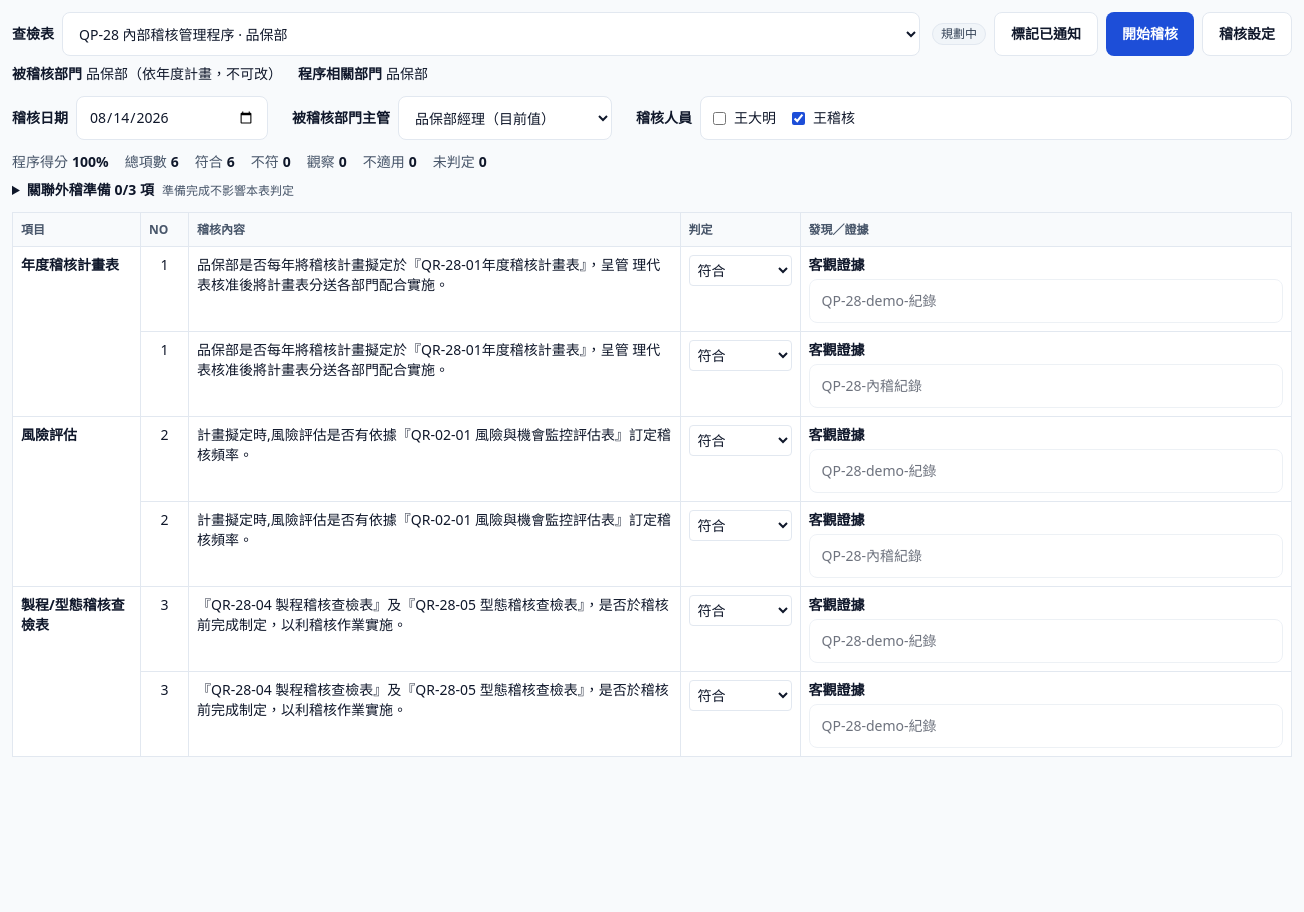
Test: ProcedureAuditPanel › summarises multiple start errors in one alert line with expandable details
Click the button "開始稽核": point(1150, 34) [1106,12,1194,56]
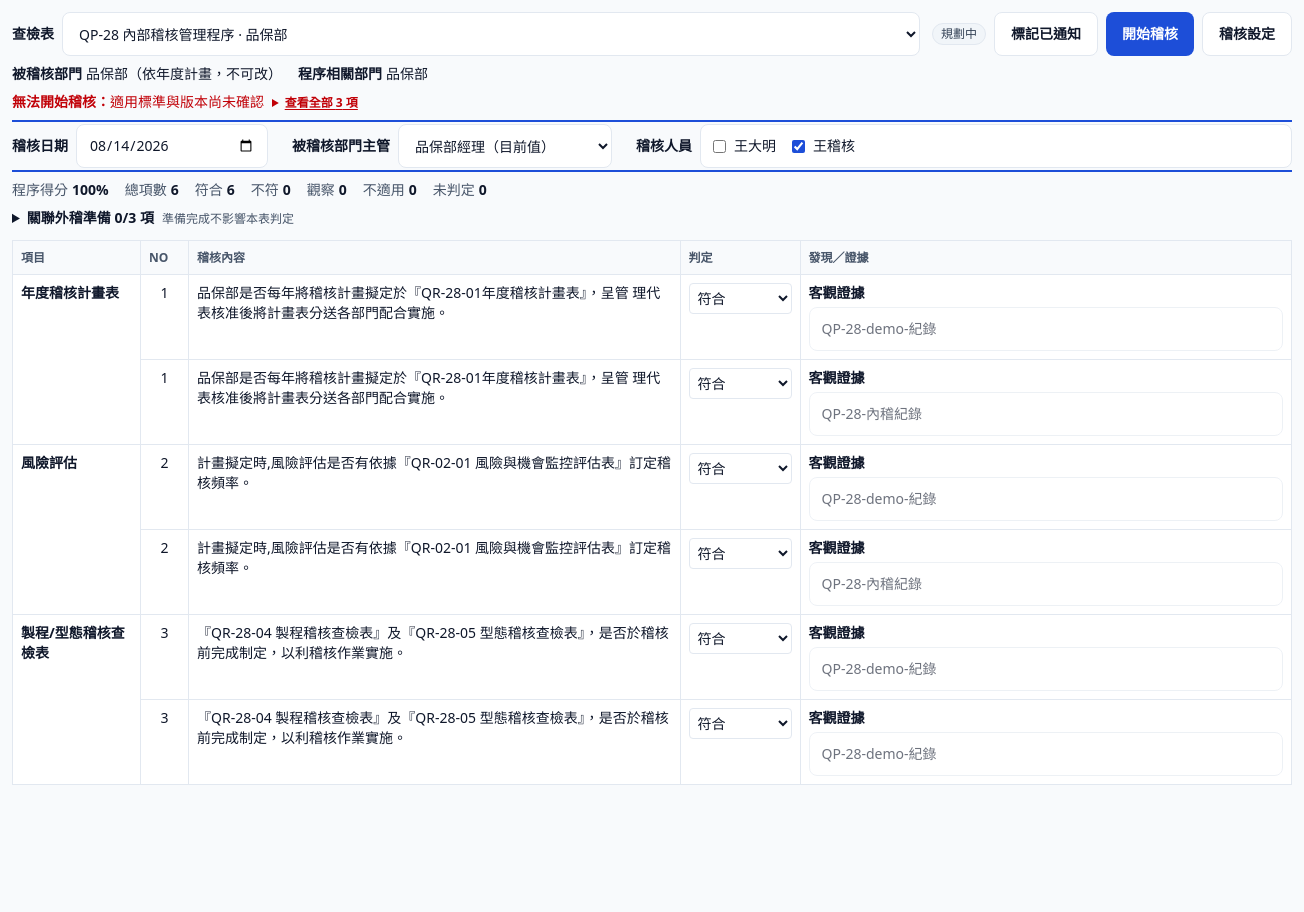
Expected: the text "規劃中" is shown, [932,23,986,45]
Expected: the message shows "無法開始稽核：", [12,92,110,111]
